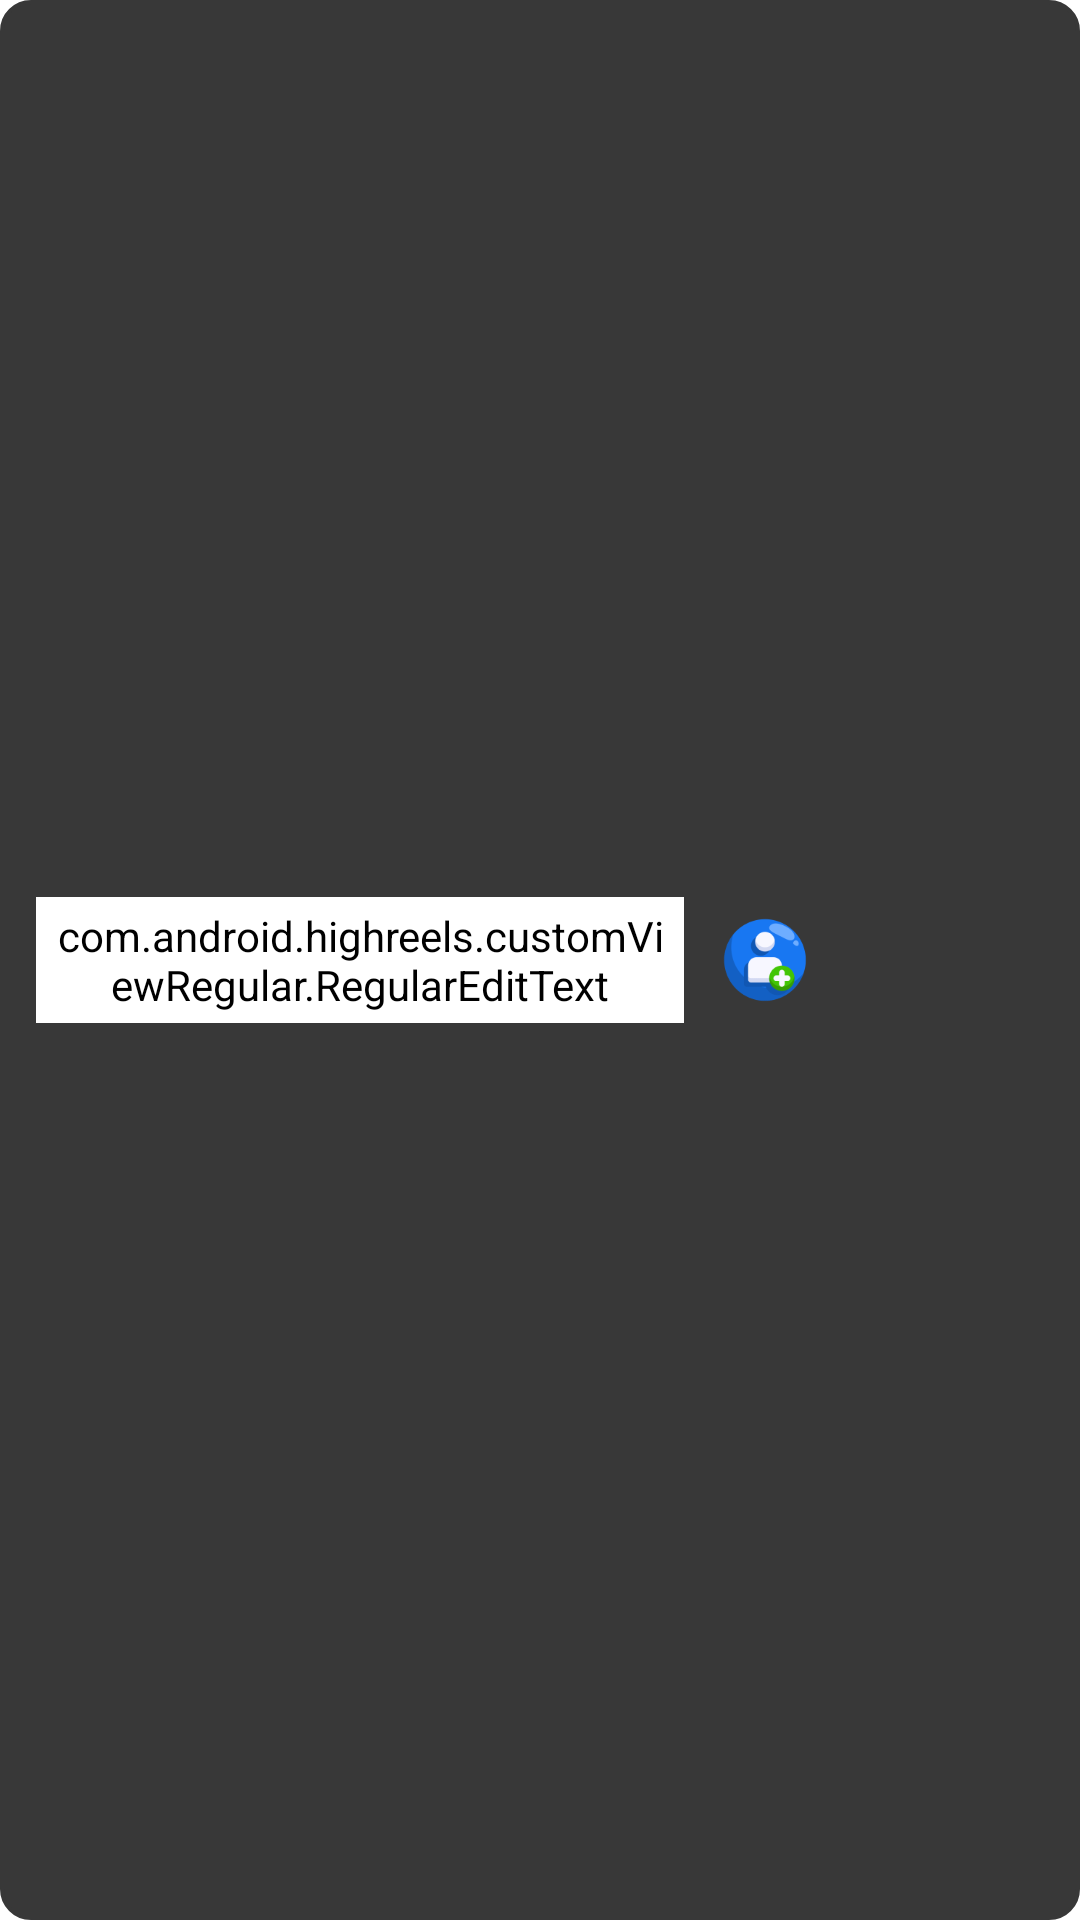

Named icons in this screenshot (1080x1920) and their centers, (x,y):
add friend: (765,960)
